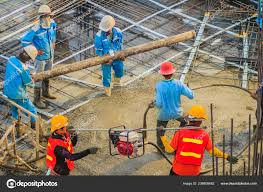helmet: (189, 104, 209, 120), (50, 114, 67, 130), (101, 15, 115, 31), (161, 61, 175, 75), (24, 45, 36, 59), (38, 5, 50, 14)
vest: (46, 137, 77, 171), (180, 128, 207, 165)
